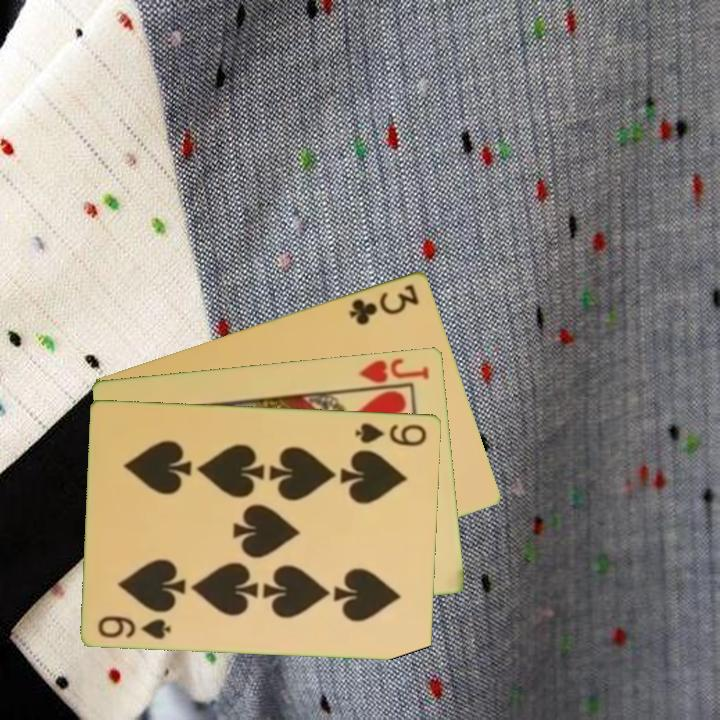3c: (346, 280, 422, 328)
9s: (95, 612, 175, 642), (352, 419, 430, 449)
Jh: (355, 354, 433, 386)
